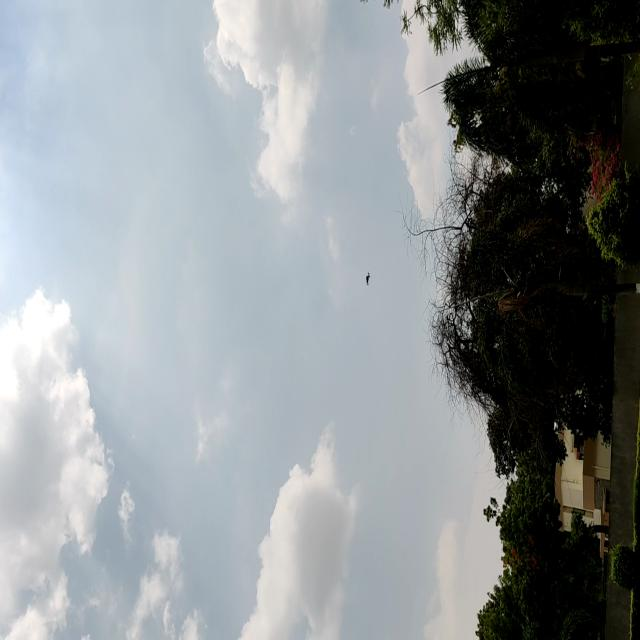drone: (362, 268, 373, 293)
